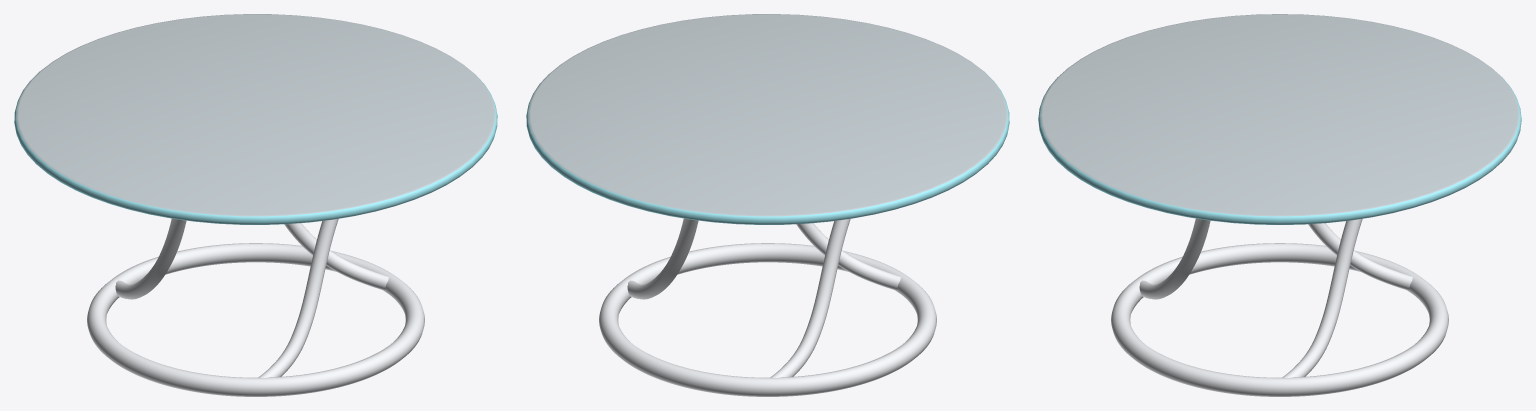
Rendered from coffee_table.glb.
3 views of the same model, side by side, from view 1: azimuth 30°, elevation 25°; view 2: azimuth 150°, elevation 25°; view 3: azimuth 270°, elevation 25° (orthographic).
Visible parts, largest first — view 1: CoffeeTable; view 2: CoffeeTable; view 3: CoffeeTable.
Part boxes in pixels (x1,y1,x2,y2): CoffeeTable: (14, 14, 497, 396); CoffeeTable: (526, 14, 1009, 396); CoffeeTable: (1038, 14, 1521, 396).
Bounding box in the file's own units: 1.01 × 0.4928 × 1.01.
